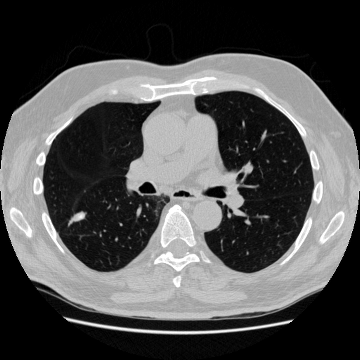nodule: (73, 210, 85, 222)
